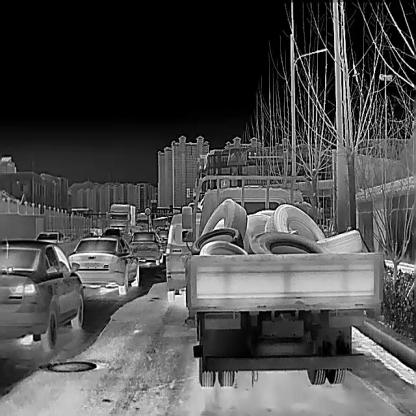car: (0, 235, 84, 352), (64, 232, 140, 294), (164, 210, 206, 303), (126, 228, 163, 266), (35, 230, 64, 243), (99, 227, 123, 238), (102, 226, 121, 236)
truck: (180, 171, 386, 387), (107, 201, 137, 230)
